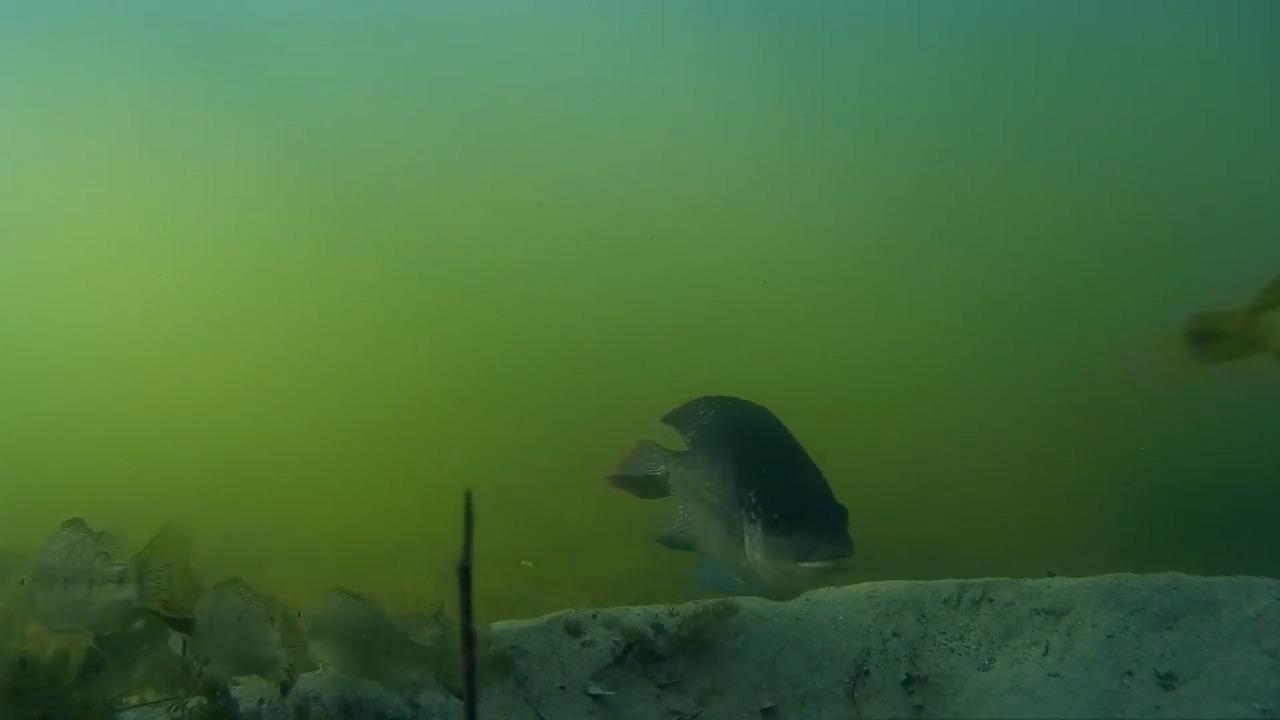Tilapia: (600, 394, 871, 593), (11, 507, 266, 691), (290, 572, 489, 712), (1185, 264, 1280, 372)
